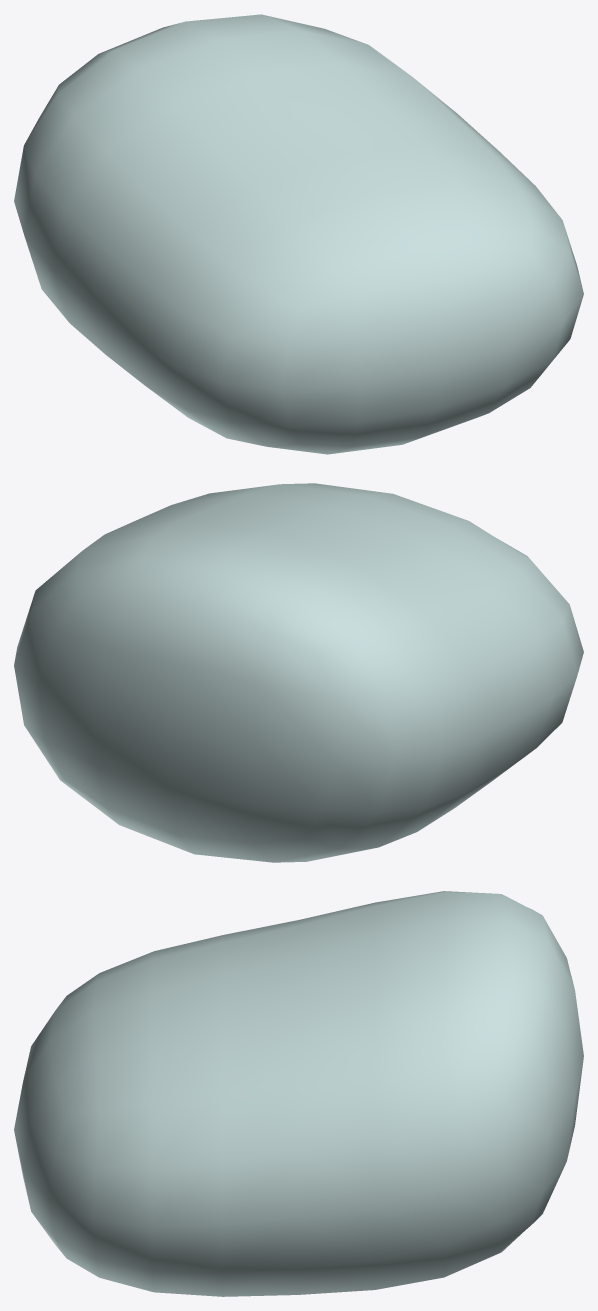
Rendered from Carapace.fbx.
3 renders of one model, top to bottom at view 1: azimuth 30°, elevation 25°; view 2: azimuth 150°, elevation 25°; view 3: azimuth 270°, elevation 25°, orthographic. The views are drawn at different scales.
Parts seen in each view (by area): view 1: Cube.003; view 2: Cube.003; view 3: Cube.003.
Part boxes in pixels (bbox=[...]): Cube.003: bbox=[14, 14, 583, 454]; Cube.003: bbox=[14, 483, 583, 862]; Cube.003: bbox=[14, 891, 583, 1296].
Bounding box in the file's own units: 400 × 273 × 436.
